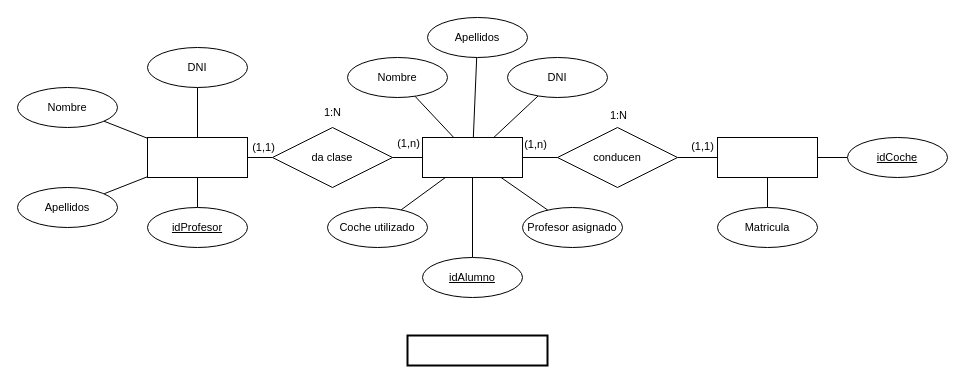
Image size: 965x384. Some labels were removed from this diagram. The centre of each missing label's shape, as x and y in pixels:
"Alumno" goes at pixel 472 157.
"Coches de práctica" goes at pixel 767 157.
"Marcos Zahonero" goes at pixel 477 350.
"Profesor" goes at pixel 197 157.
